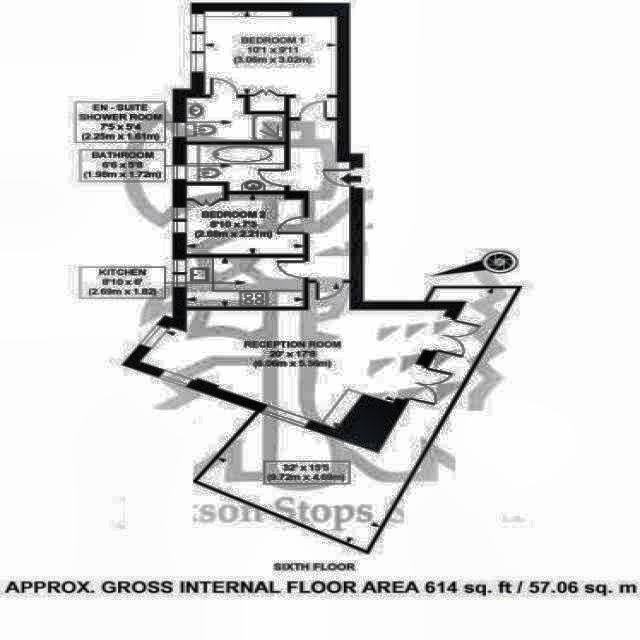room: (199, 200, 516, 570), (137, 234, 447, 448), (205, 10, 337, 95), (290, 121, 350, 279), (187, 194, 304, 254), (187, 258, 305, 307), (185, 144, 286, 191), (187, 98, 285, 142), (289, 98, 337, 117)
